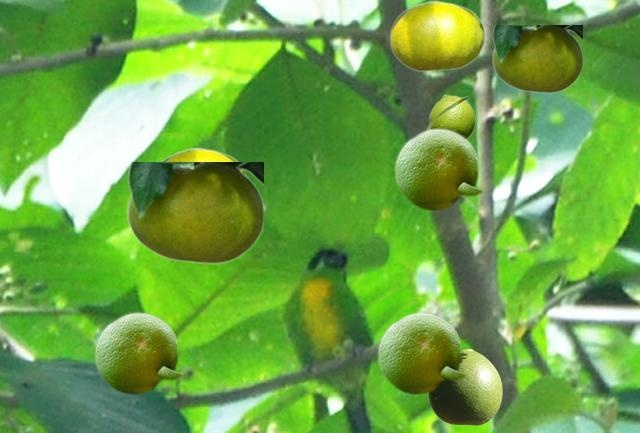dalandan: (127, 162, 262, 263), (93, 310, 184, 394), (376, 310, 467, 394), (393, 126, 484, 210), (389, 0, 484, 71), (492, 25, 581, 92), (428, 349, 501, 424), (160, 147, 246, 174), (427, 94, 475, 138)
